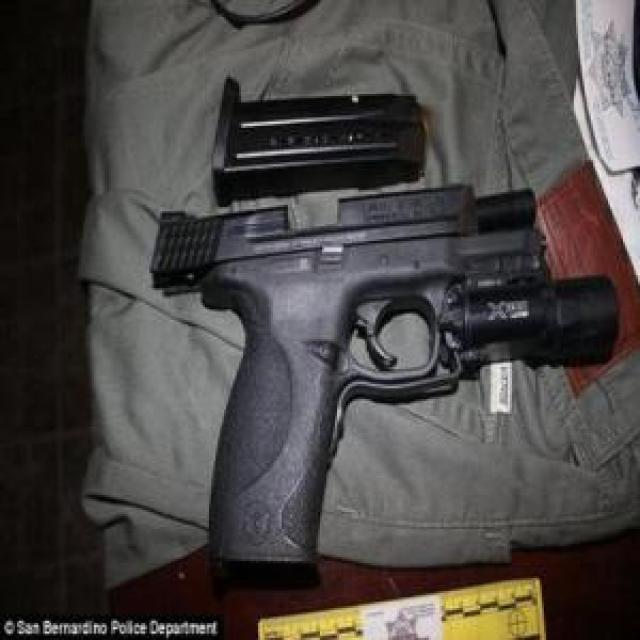pistol: (156, 190, 618, 573)
